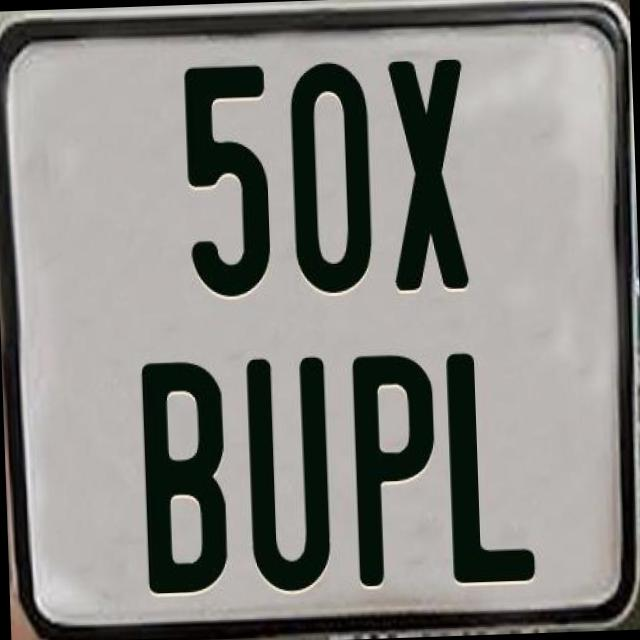0: (286, 57, 378, 296)
5: (179, 61, 267, 295)
B: (140, 360, 235, 600)
L: (442, 351, 532, 585)
P: (349, 349, 444, 586)
U: (244, 353, 332, 595)
X: (382, 54, 472, 288)
